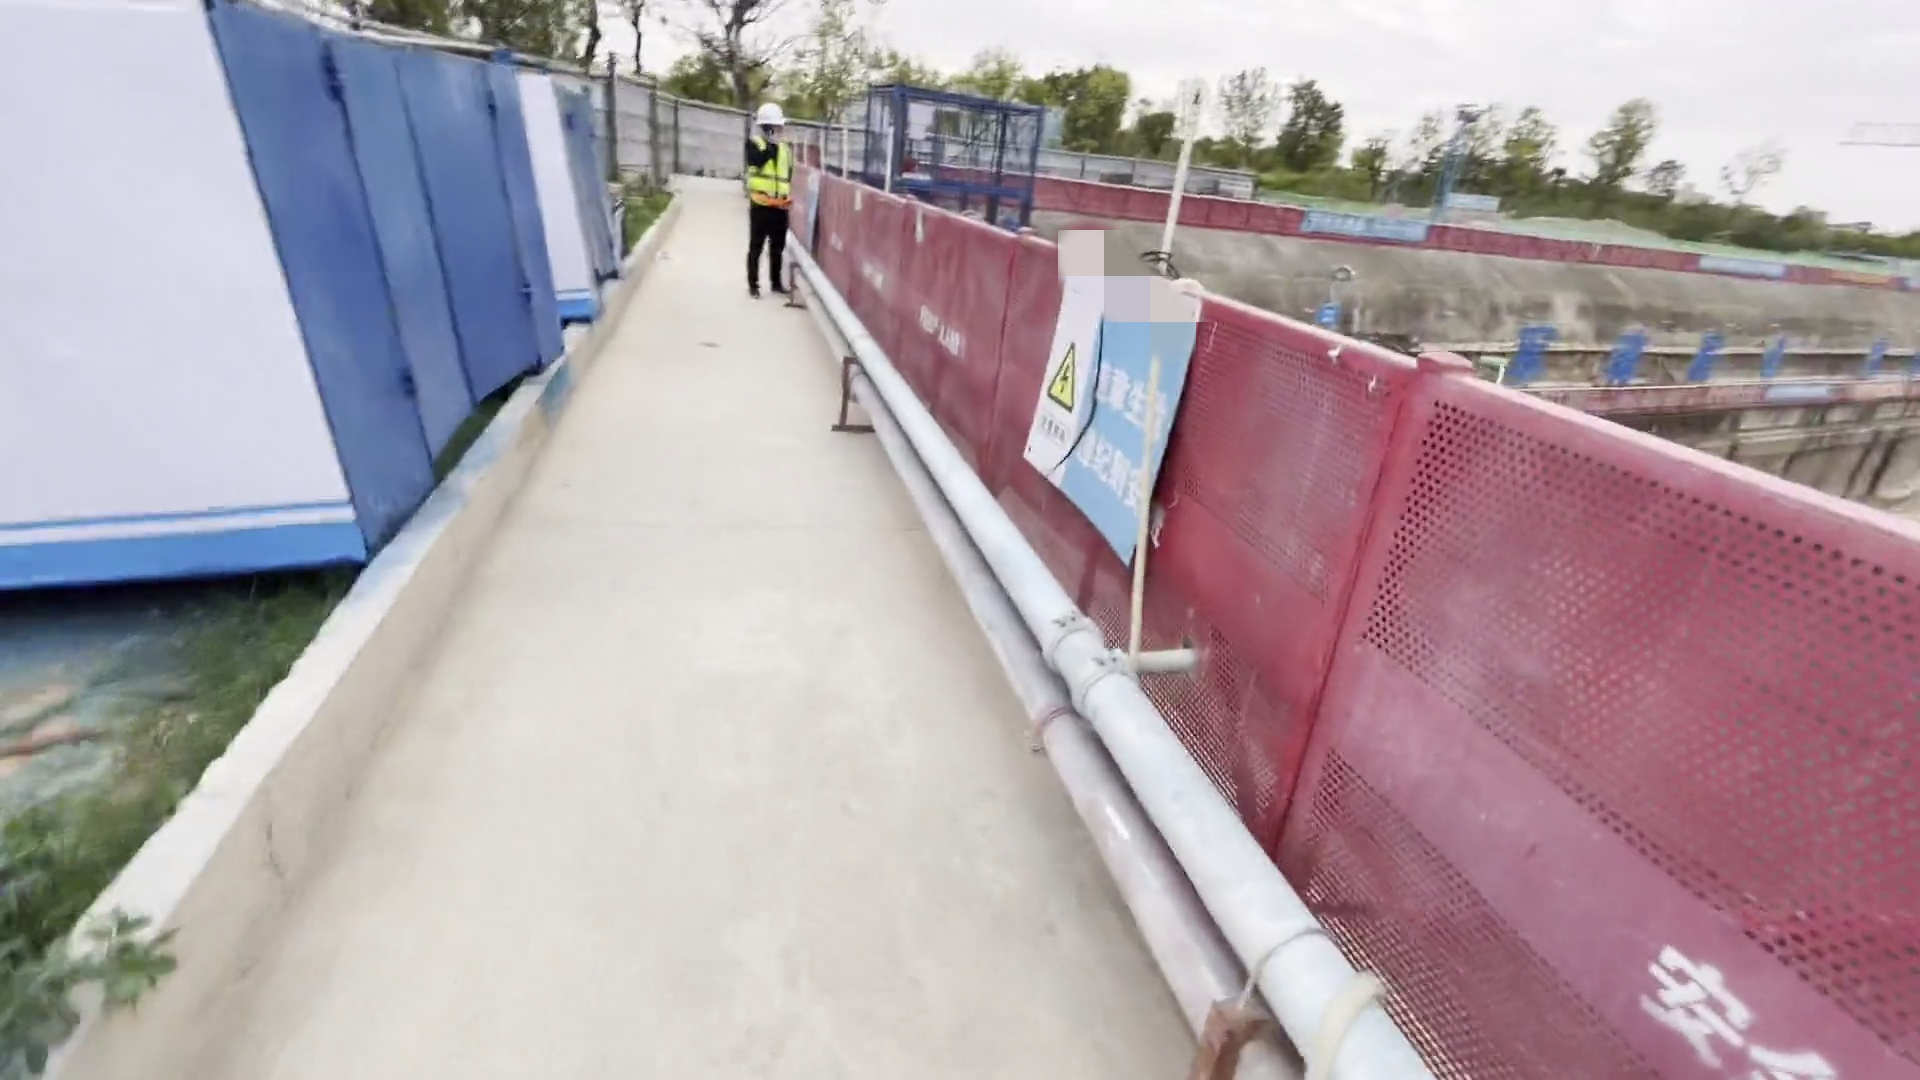fence: (729, 139, 1908, 1063)
helmet: (752, 100, 791, 130)
person: (742, 98, 797, 304)
slogan: (1012, 291, 1223, 535)
vest: (739, 130, 800, 216)
